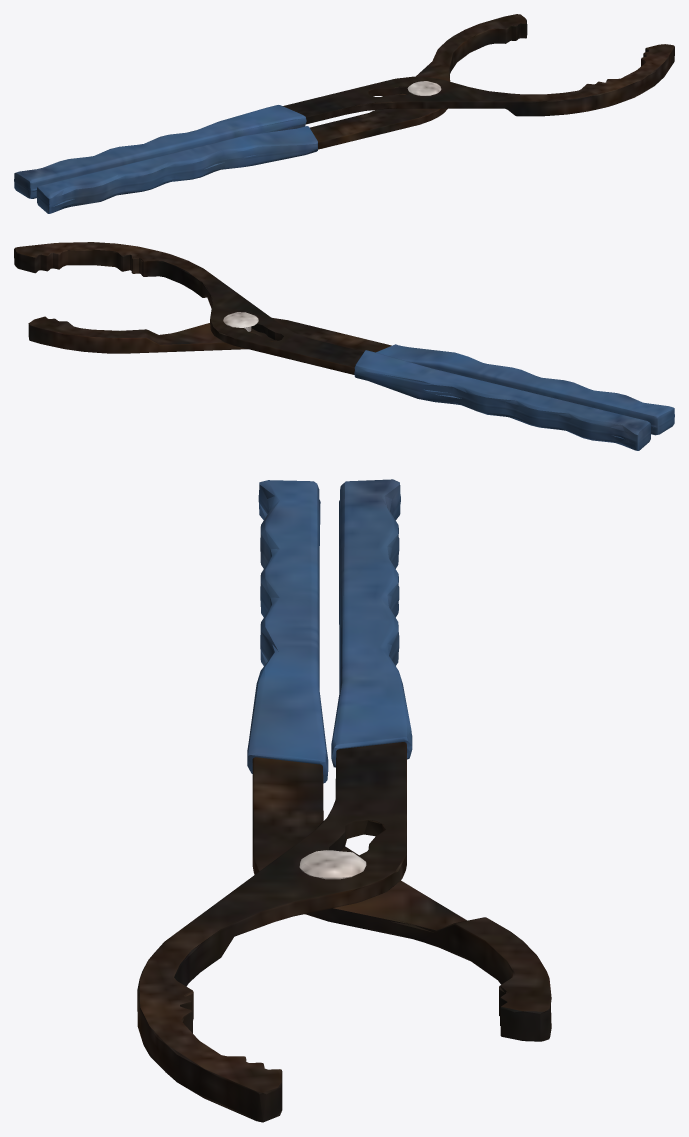
Rendered from item_oilfilter_pliers.glb.
3 views of the same model, one above another, from view 1: azimuth 30°, elevation 25°; view 2: azimuth 150°, elevation 25°; view 3: azimuth 270°, elevation 25° (orthographic). The views are drawn at different scales.
Visible parts, largest first — view 1: item_oilfilter_pliers; view 2: item_oilfilter_pliers; view 3: item_oilfilter_pliers.
Part boxes in pixels (x1,y1,x2,y2): item_oilfilter_pliers: (14, 14, 674, 213); item_oilfilter_pliers: (14, 242, 674, 450); item_oilfilter_pliers: (137, 479, 551, 1122).
Bounding box in the file's own units: 0.2979 × 0.0103 × 0.0853.
3 materials, 3 textured.
